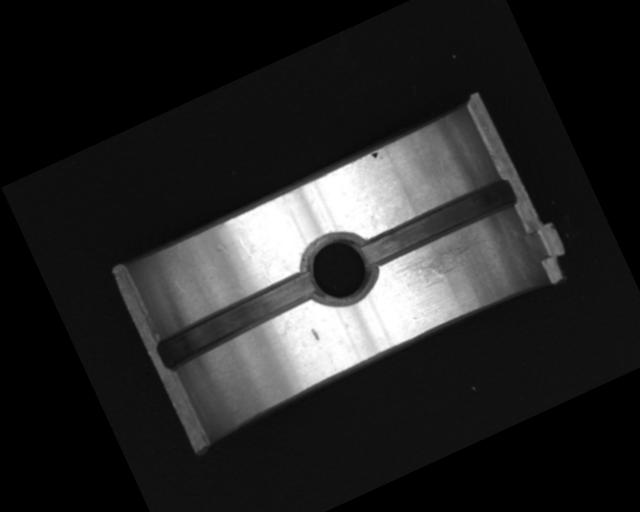blot: (370, 149, 381, 161)
bruise: (309, 325, 322, 342)
gap: (153, 267, 324, 373), (358, 175, 518, 272)
hole: (294, 221, 385, 313)
nick: (237, 234, 272, 289)
scratch: (389, 228, 493, 298)
